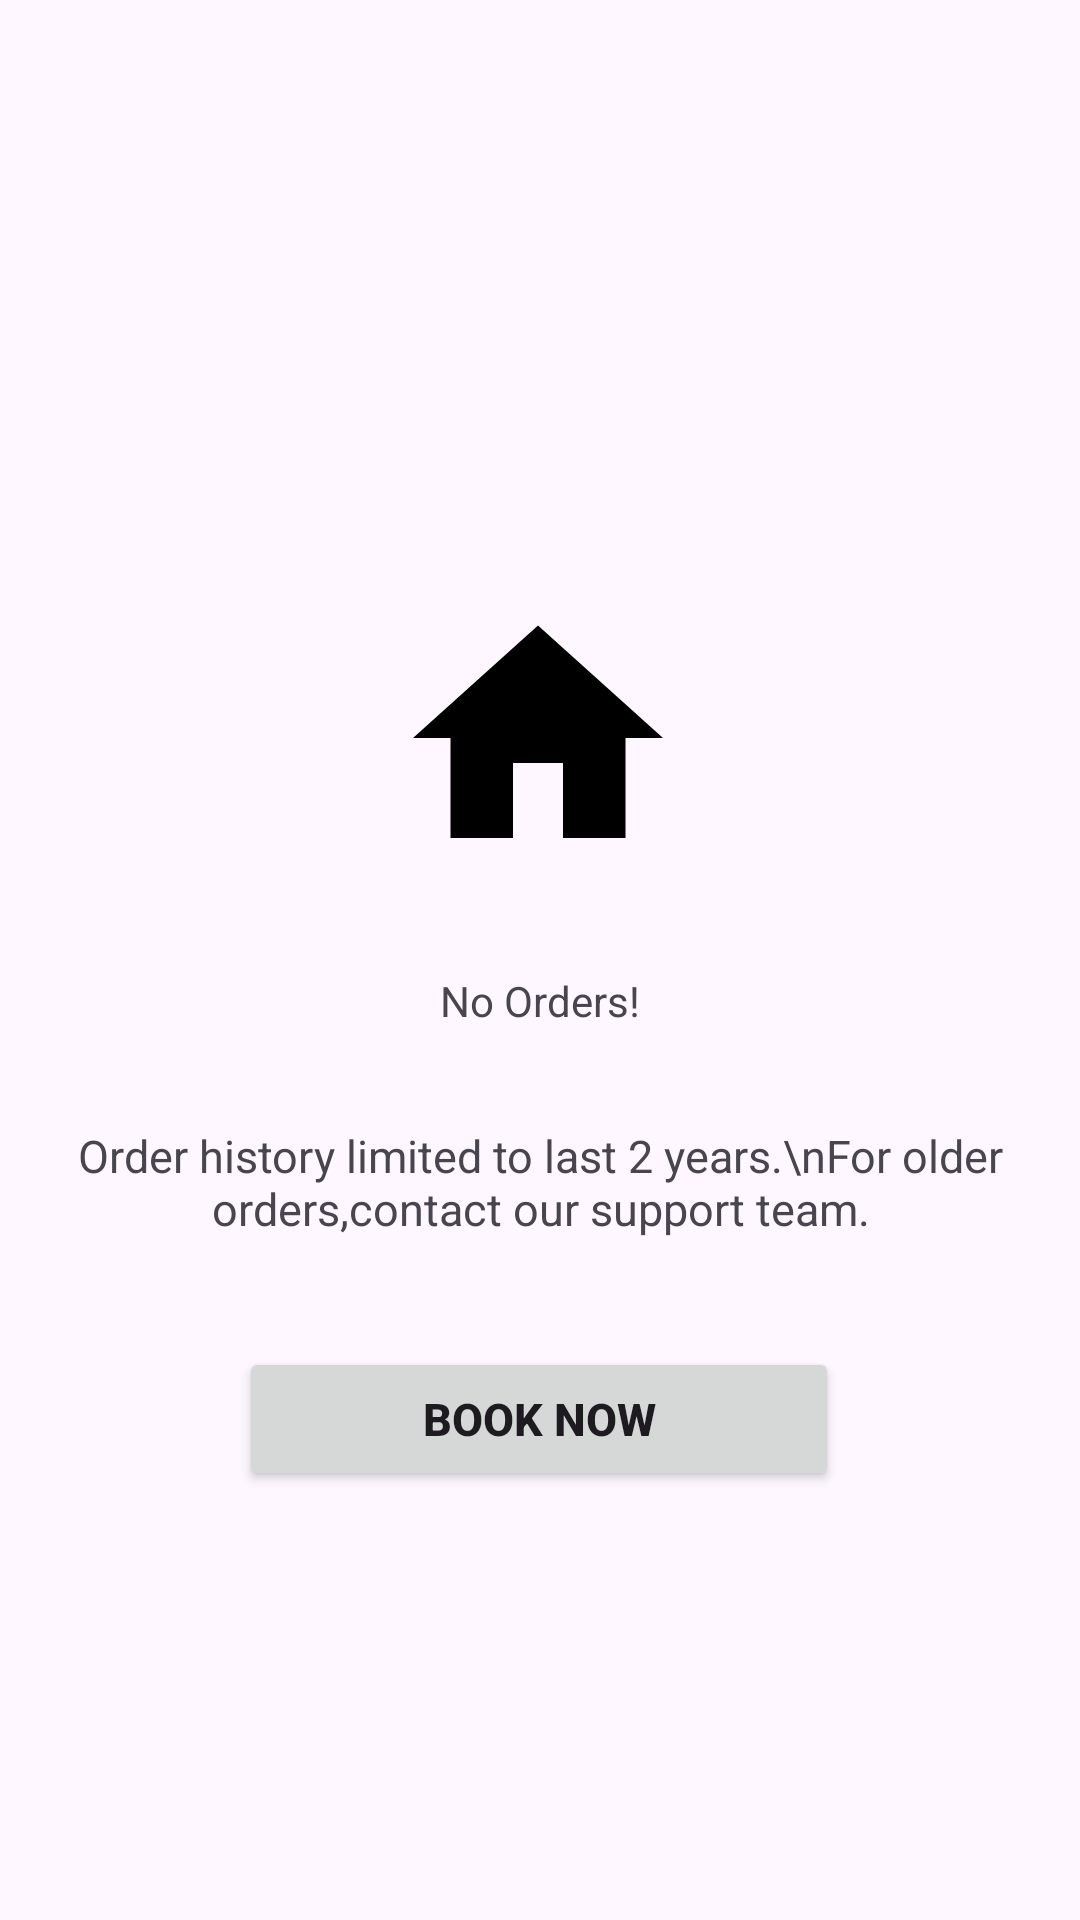

Named icons in this screenshot (1080 x 1920) and their centers, [x,y]:
home: [538,731]
